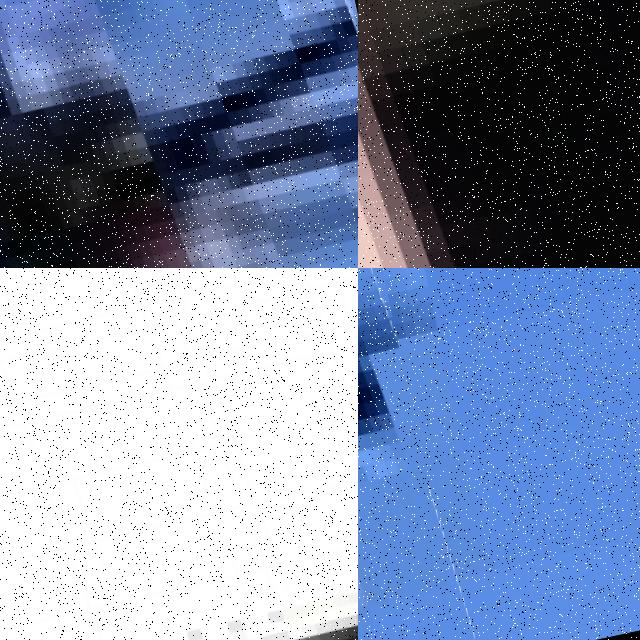drone: (0, 268, 358, 640), (0, 0, 358, 268), (358, 0, 640, 268), (358, 268, 466, 640)
